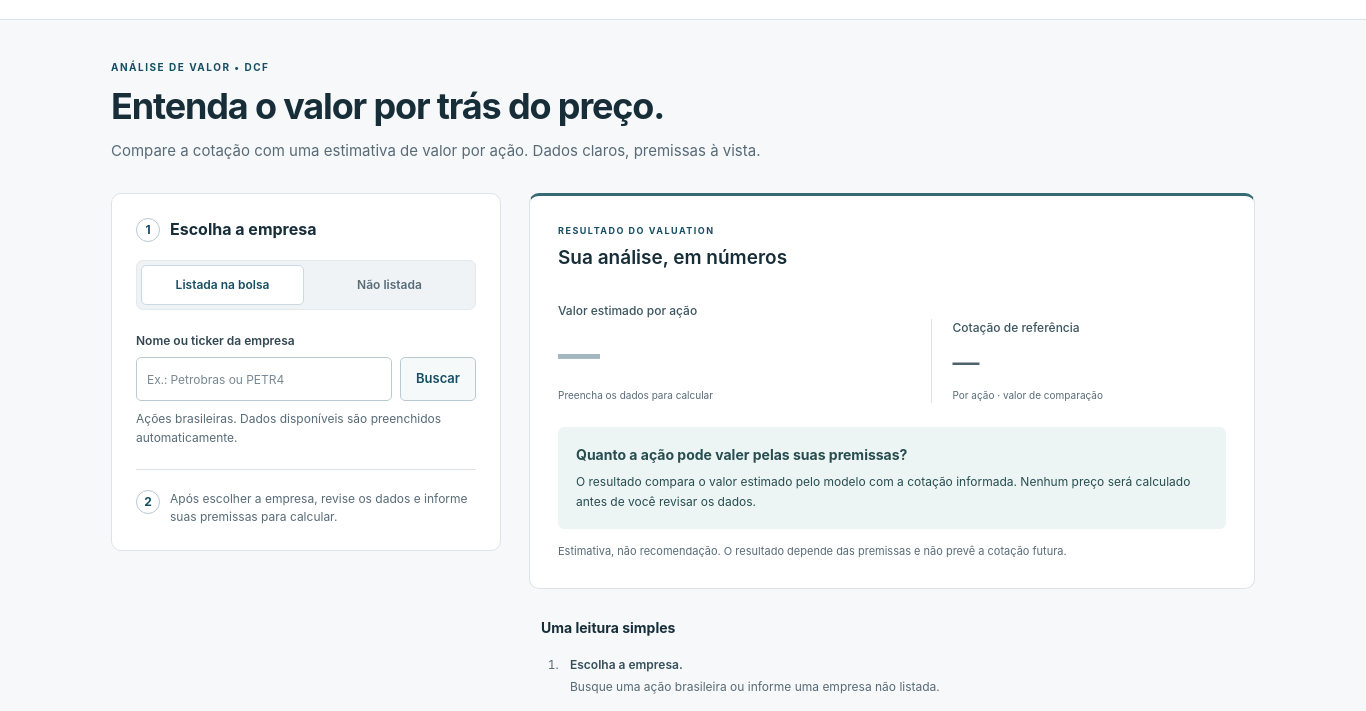
Test case: fluxos da interface › inicia sem resultados inventados e faz busca por nome
In the field with id "company-search": (264, 379) left=136, top=357, right=392, bottom=401, type "Empresa"
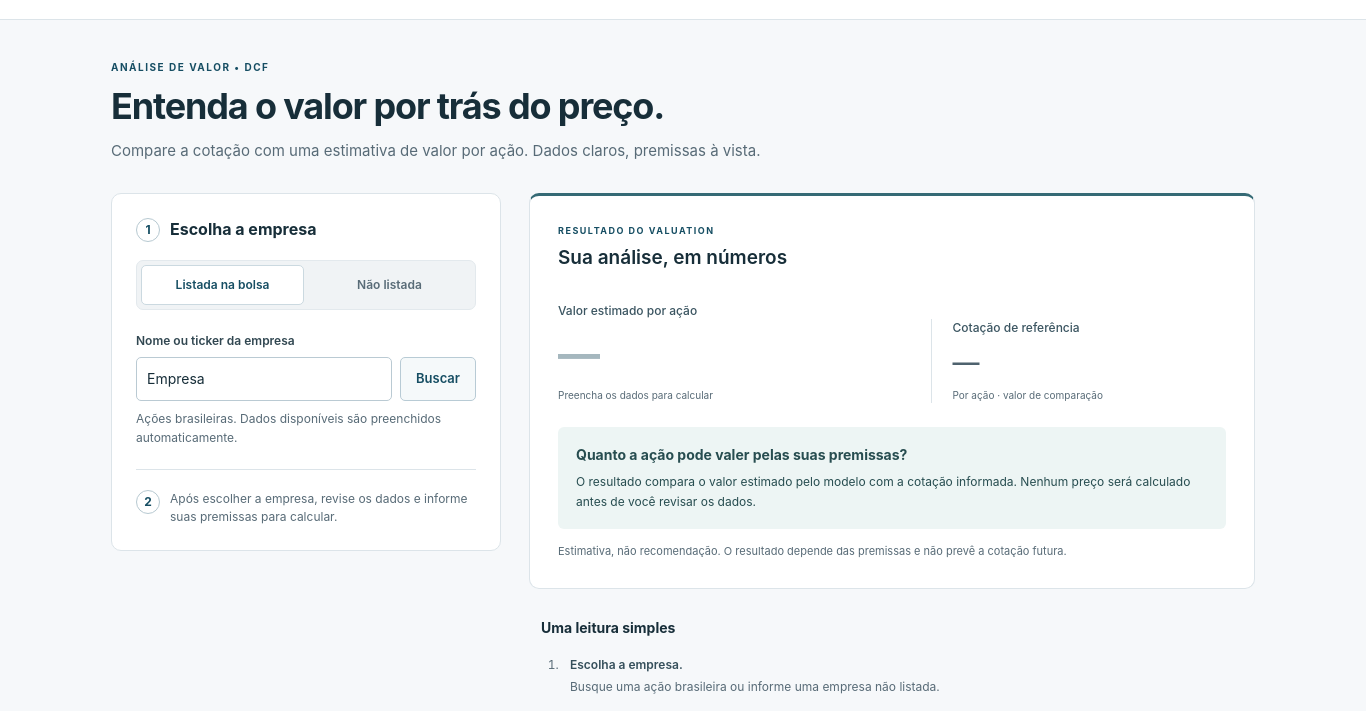
Click the button "Buscar": (438, 379) left=400, top=357, right=476, bottom=401
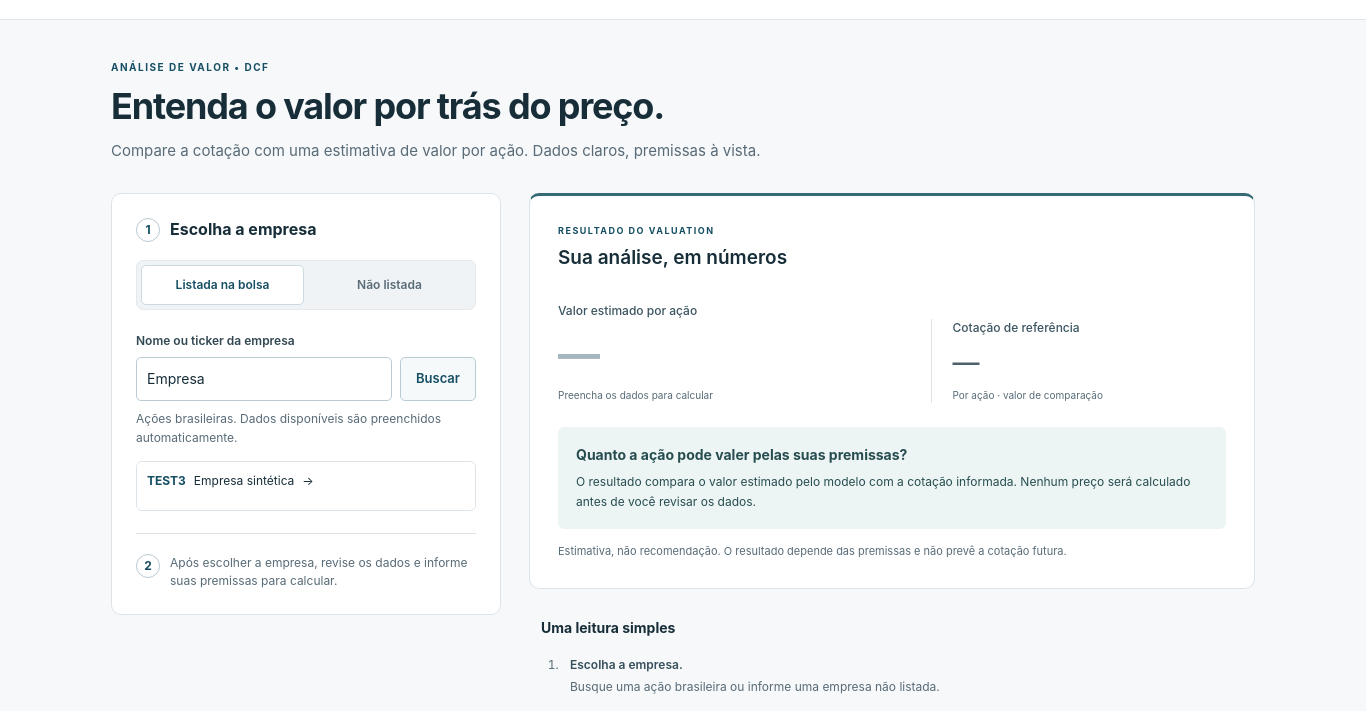
Click the button with aria-label "Selecionar TEST3": (306, 486) left=137, top=462, right=475, bottom=510
(page scrolled)
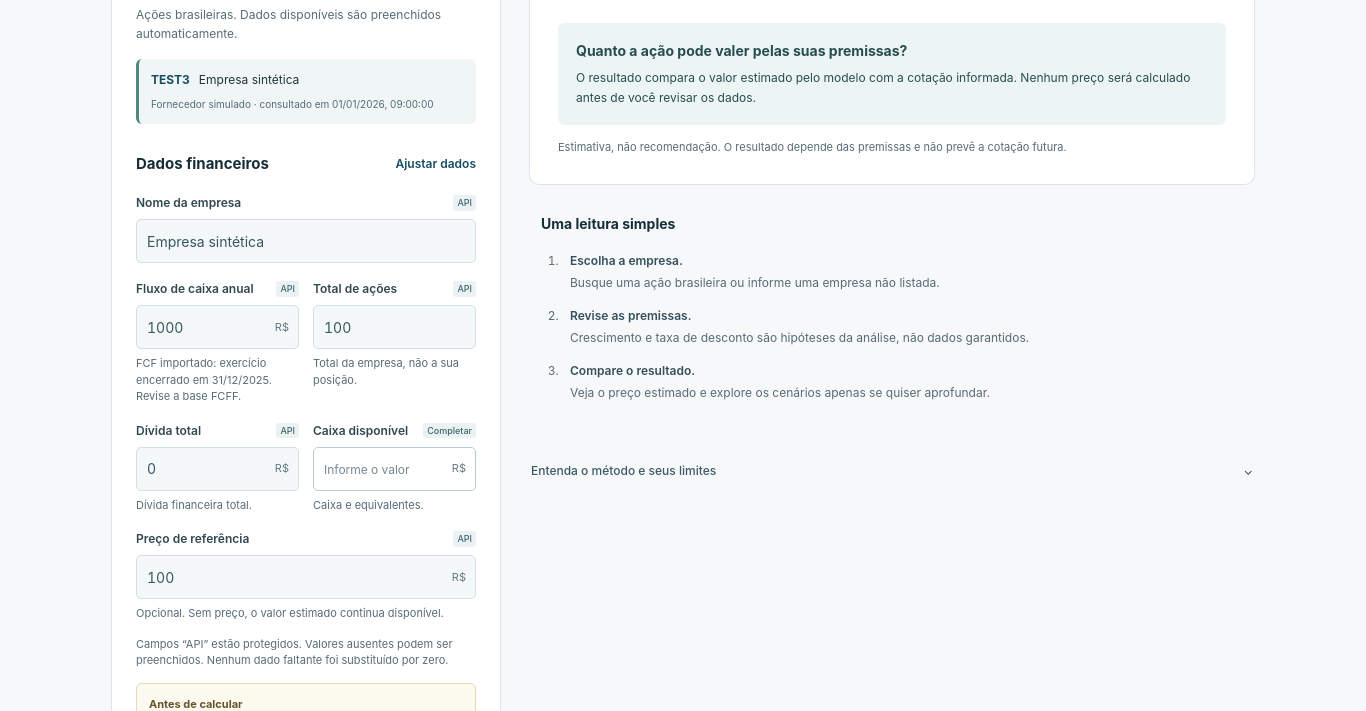
Now the field showing "Empresa sintética" is shown, box left=136, top=219, right=476, bottom=263
